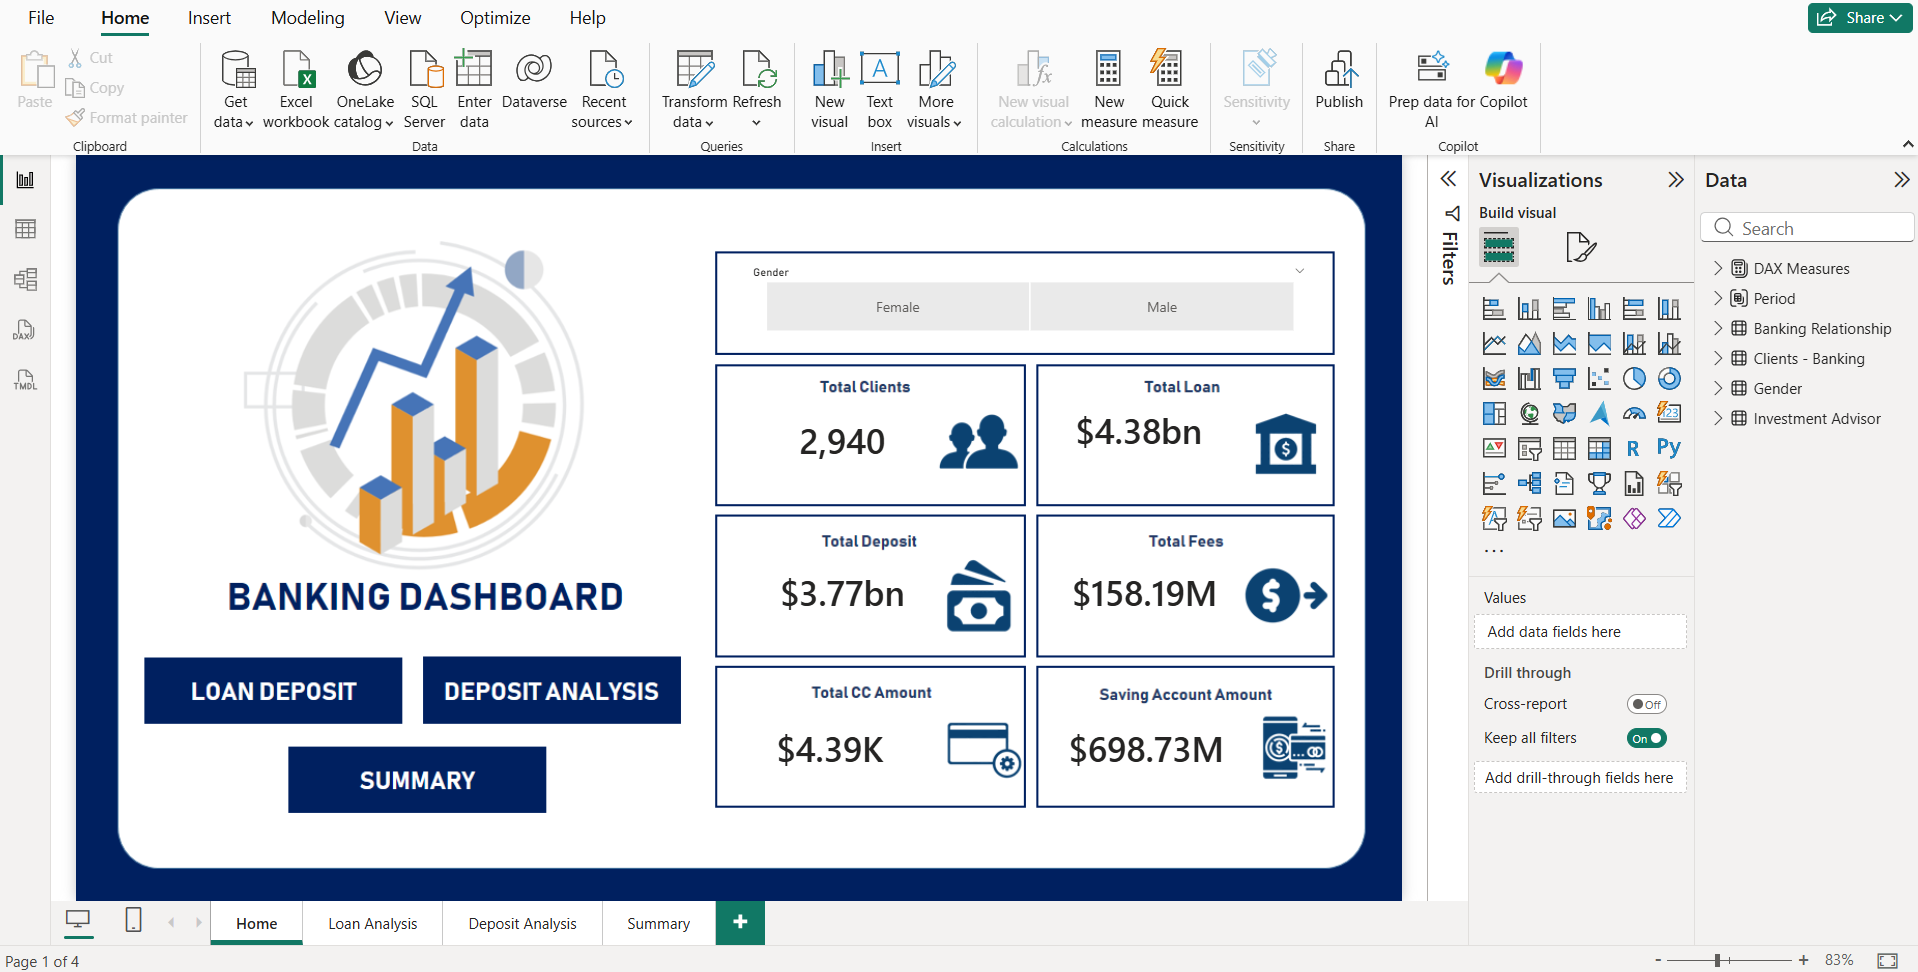

What the dashboard file says about the page in this screenshot:
{"tool":"powerbi","page":{"name":"Home","canvas":[1280,720],"ordinal":0},"visuals":[{"type":"slicer","fields":{"Values":["Gender.Gender"]},"box":[640.3,100.8,558.2,75],"z":0},{"type":"card","fields":{"Values":["DAX Measures.Total Clients"]},"box":[640.3,218.1,198.2,114.9],"z":1000},{"type":"card","fields":{"Values":["DAX Measures.Total Loan"]},"box":[933.4,208.7,184.1,114.9],"z":2000},{"type":"card","fields":{"Values":["DAX Measures.Total Deposit"]},"box":[640.3,374.1,198.2,98.5],"z":3000},{"type":"card","fields":{"Values":["DAX Measures.Total CC Amount"]},"box":[628.5,533.6,198.2,79.7],"z":4000},{"type":"card","fields":{"Values":["DAX Measures.Total Fees"]},"box":[938.1,372.9,185.3,99.7],"z":5000},{"type":"card","fields":{"Values":["DAX Measures.Savings Account"]},"box":[933.4,533.6,198.2,79.7],"z":6000},{"type":"actionButton","box":[63.3,483.1,253.3,65.7],"z":7000},{"type":"actionButton","box":[335.4,485.5,250.9,63.3],"z":8000},{"type":"actionButton","box":[205.2,573.4,255.6,61],"z":9000}]}

Visuals, with their boxes on the page's 1280x720 design canvas (x1, y1, x2, y2). These are canvas units, not pixel positions in the 1918x972 screenshot, which may show the page scaled, cropped or inside an application window:
slicer - Gender.Gender: locate(640, 101, 1198, 176)
card - DAX Measures.Total Clients: locate(640, 218, 838, 333)
card - DAX Measures.Total Loan: locate(933, 209, 1118, 324)
card - DAX Measures.Total Deposit: locate(640, 374, 838, 473)
card - DAX Measures.Total CC Amount: locate(628, 534, 827, 613)
card - DAX Measures.Total Fees: locate(938, 373, 1123, 473)
card - DAX Measures.Savings Account: locate(933, 534, 1132, 613)
actionButton: locate(63, 483, 317, 549)
actionButton: locate(335, 486, 586, 549)
actionButton: locate(205, 573, 461, 634)
